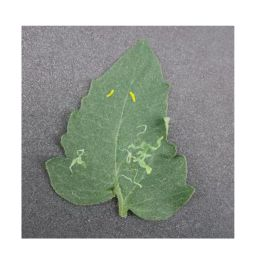liriomyza: (116, 123, 163, 190), (68, 146, 87, 174), (104, 88, 115, 98), (128, 90, 136, 102)
